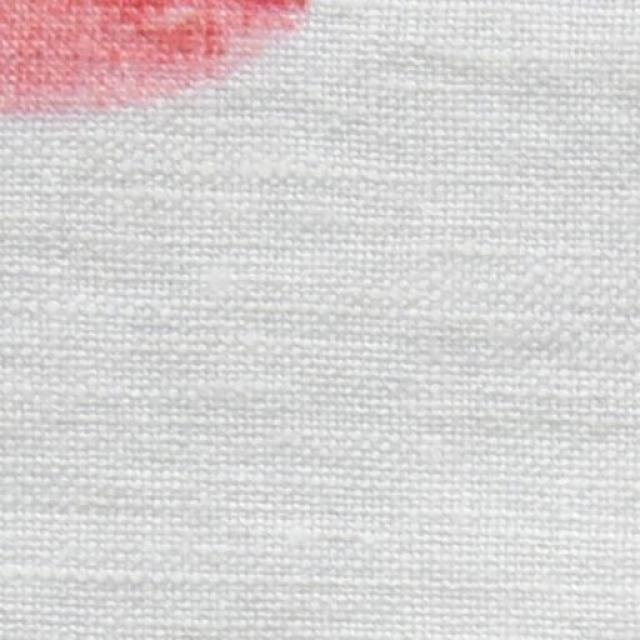Stain: (0, 0, 304, 114)
